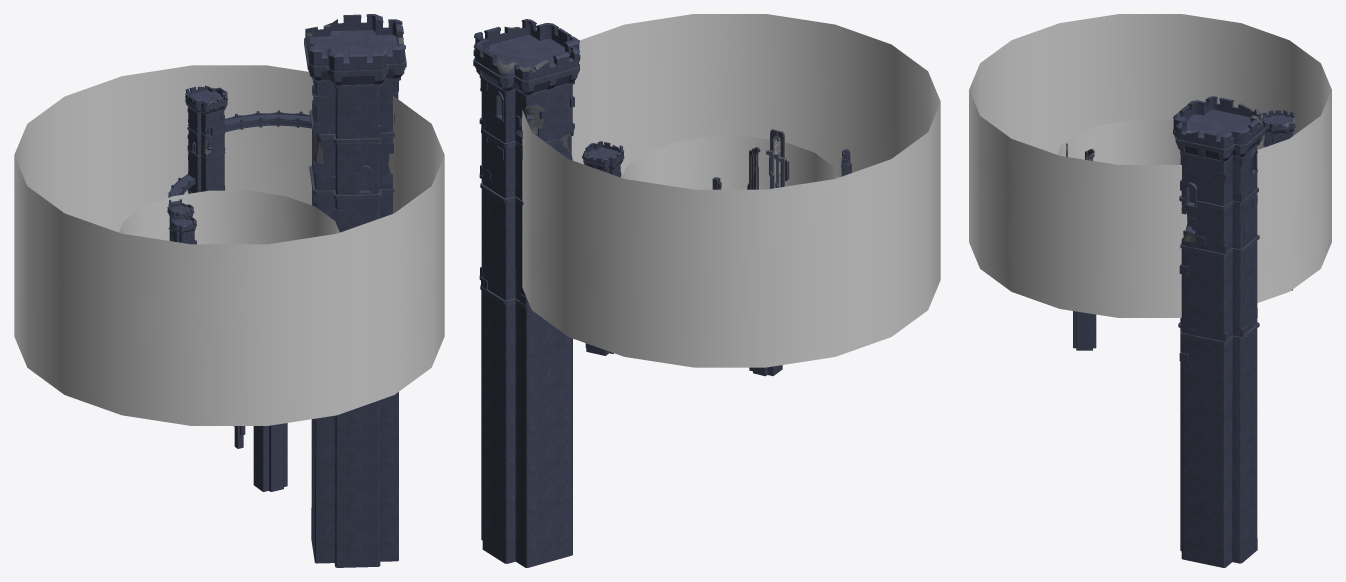
Rendered from Level_Tower_Moon_01_NoCombine.fbx.
3 views of the same model, side by side, from view 1: azimuth 30°, elevation 25°; view 2: azimuth 150°, elevation 25°; view 3: azimuth 270°, elevation 25° (orthographic). The views are drawn at different scales.
Visible parts, largest first — view 1: CloudBacktMoon, Level_Ec_Build_Tower_01_Vo (3), CloudFrontMoon, Level_Ec_Build_Tower_01_Vo (×2), Level_Ec_Build_Tower_01_Vo (1), Level_Ec_Build_Road_02_Vo (×2); view 2: CloudBacktMoon, Level_Ec_Build_Tower_01_Vo (3), CloudFrontMoon, Level_Ec_Build_Tower_01_Vo; view 3: CloudBacktMoon, Level_Ec_Build_Tower_01_Vo (3), CloudFrontMoon, Level_Ec_Build_Tower_01_Vo, Level_Ec_Build_Tower_01_Vo (1).
Part boxes in pixels (x1,y1,x2,y2): CloudBacktMoon: (14,65,444,425); Level_Ec_Build_Tower_01_Vo (3): (304,14,406,567); CloudFrontMoon: (119,190,339,244); Level_Ec_Build_Tower_01_Vo (×2): (170,85,227,244); Level_Ec_Build_Tower_01_Vo (1): (253,423,287,491); Level_Ec_Build_Road_02_Vo (×2): (224,110,311,132); CloudBacktMoon: (522,14,940,367); Level_Ec_Build_Tower_01_Vo (3): (473,19,580,567); CloudFrontMoon: (622,136,837,189); Level_Ec_Build_Tower_01_Vo: (582,141,624,355); CloudBacktMoon: (969,14,1331,317); Level_Ec_Build_Tower_01_Vo (3): (1173,96,1265,567); CloudFrontMoon: (1057,119,1180,164); Level_Ec_Build_Tower_01_Vo: (1262,110,1295,290); Level_Ec_Build_Tower_01_Vo (1): (1073,311,1096,350).
Bounding box in the file's own units: 442 × 545 × 412.
13 materials, 13 textured.
